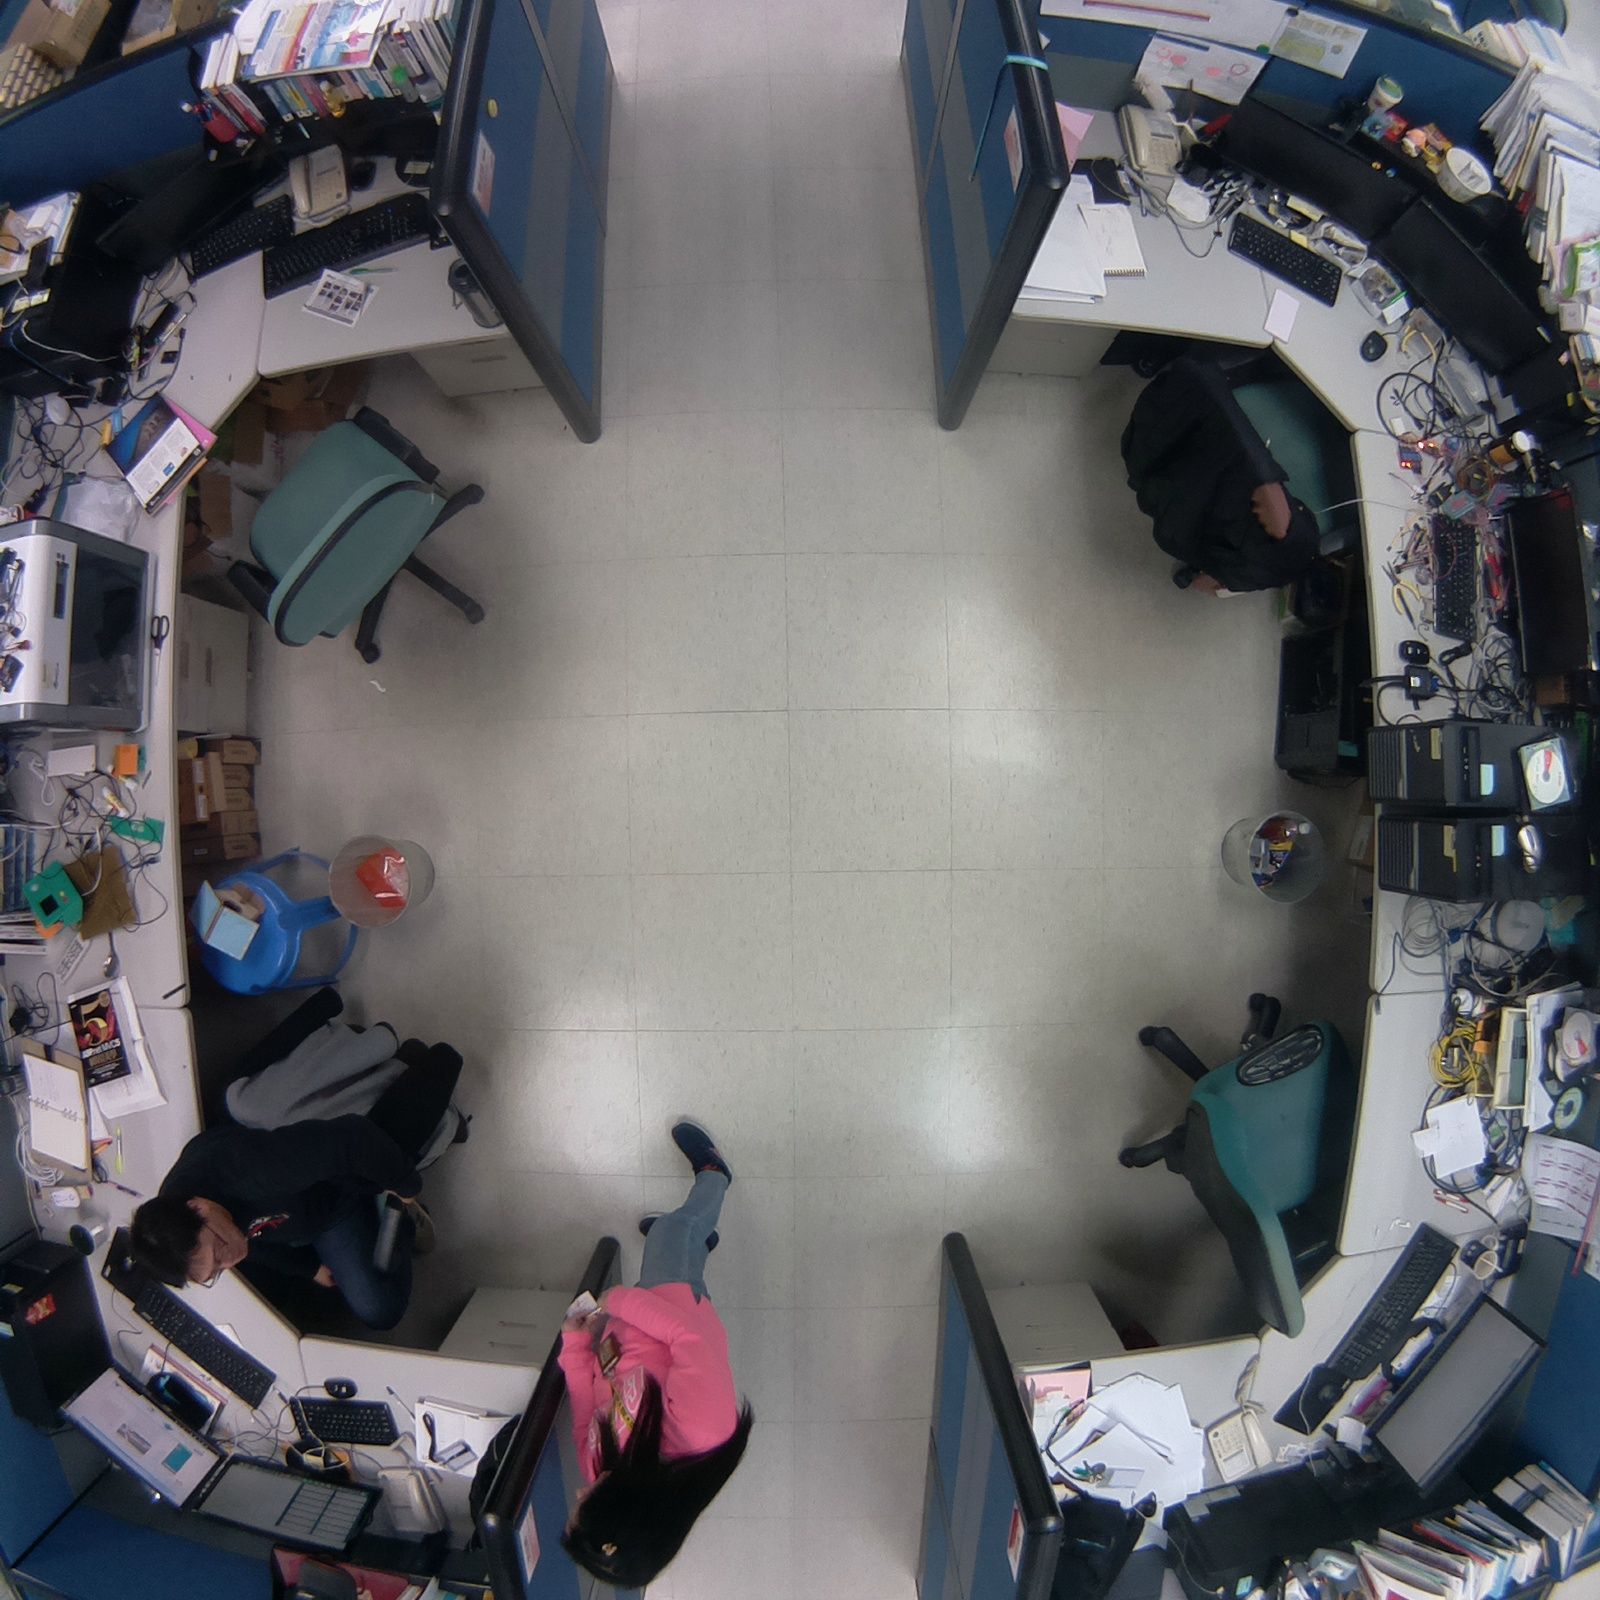chair: (1099, 973, 1368, 1350), (206, 368, 519, 688), (1104, 311, 1386, 622)
head: (561, 1442, 700, 1595), (121, 1191, 259, 1297)
sitting: (110, 970, 491, 1298), (529, 1093, 773, 1600)
